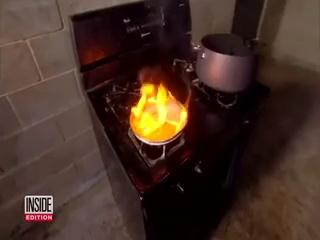Fire: (129, 74, 193, 144)
